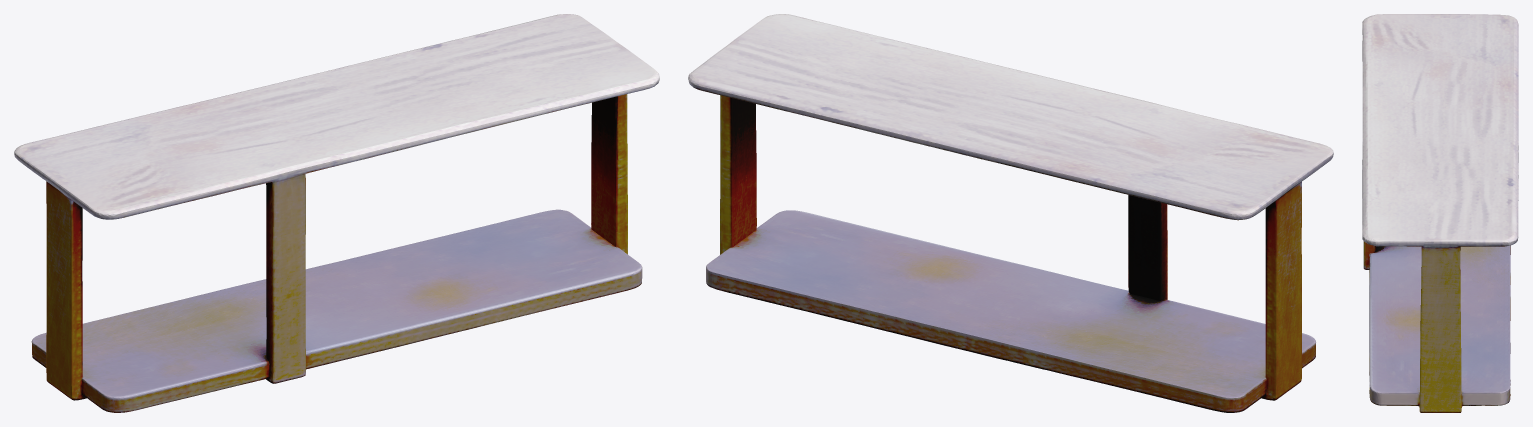
File: CONSOLA BARAMAN.glb
3 views of the same model, side by side, from view 1: azimuth 30°, elevation 25°; view 2: azimuth 150°, elevation 25°; view 3: azimuth 270°, elevation 25° (orthographic). The views are drawn at different scales.
Visible parts, largest first — view 1: world; view 2: world; view 3: world.
Boxes of the visible parts, <box> form: world: <box>14,14,659,412</box>; world: <box>688,14,1333,412</box>; world: <box>1362,14,1518,412</box>.
Size of the model in its own units: 1 by 0.3648 by 0.2912.
1 material, 1 textured.
